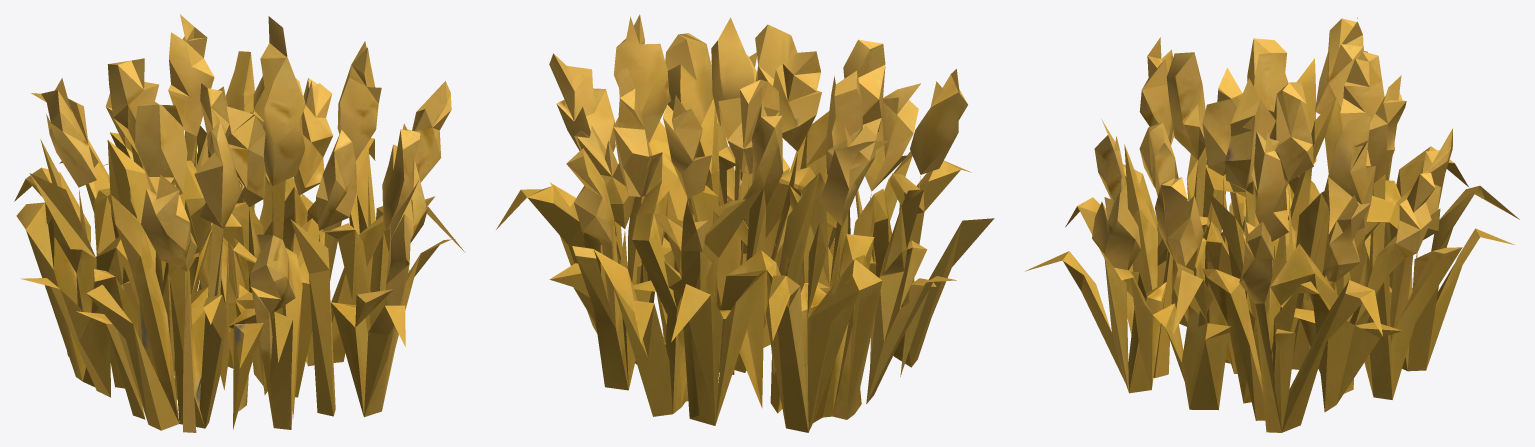
Rendered from crop-wheat.glb.
The picture shows the model from 3 angles, left to right: view 1: azimuth 30°, elevation 25°; view 2: azimuth 150°, elevation 25°; view 3: azimuth 270°, elevation 25°; orthographic projection. The views are drawn at different scales.
Visible parts, largest first — view 1: crop-wheat-fit; view 2: crop-wheat-fit; view 3: crop-wheat-fit.
Part boxes in pixels (x1,y1,x2,y2): crop-wheat-fit: (14, 14, 465, 432); crop-wheat-fit: (496, 14, 994, 432); crop-wheat-fit: (1025, 17, 1519, 432).
Size of the model in its own units: 1.51 by 1.1 by 1.65.
Materials: 1 (1 with a texture image).
